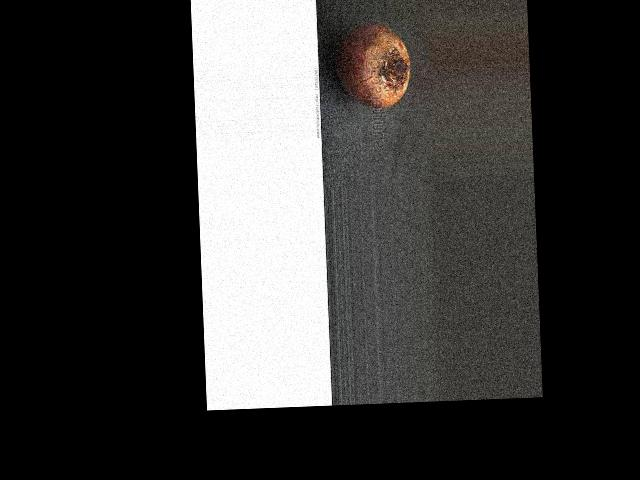beet: (334, 20, 411, 109)
